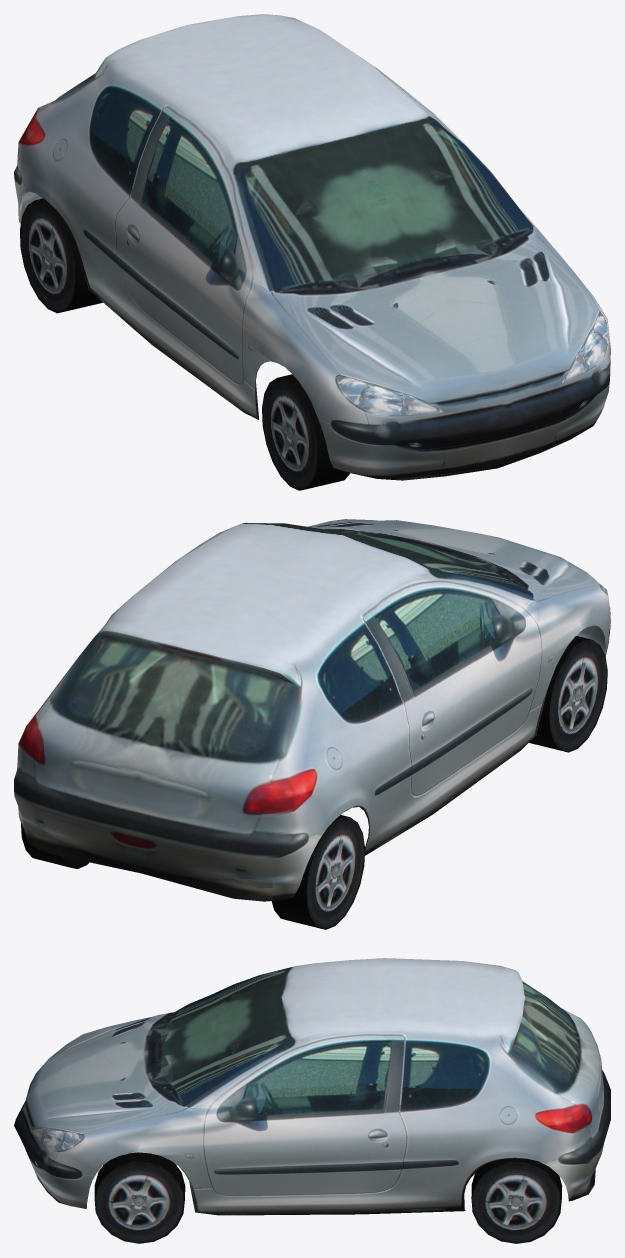
The model's file is SM_Car01.FBX.
3 views of the same model, one above another, from view 1: azimuth 30°, elevation 25°; view 2: azimuth 150°, elevation 25°; view 3: azimuth 270°, elevation 25° (orthographic). The views are drawn at different scales.
Parts seen in each view (by area): view 1: SM_Car01; view 2: SM_Car01; view 3: SM_Car01.
Part boxes in pixels (box(x1,y1,x2,y2)): SM_Car01: box(14, 14, 610, 490); SM_Car01: box(14, 519, 610, 929); SM_Car01: box(14, 958, 610, 1243).
Size of the model in its own units: 3.1 by 2.5 by 6.81.
